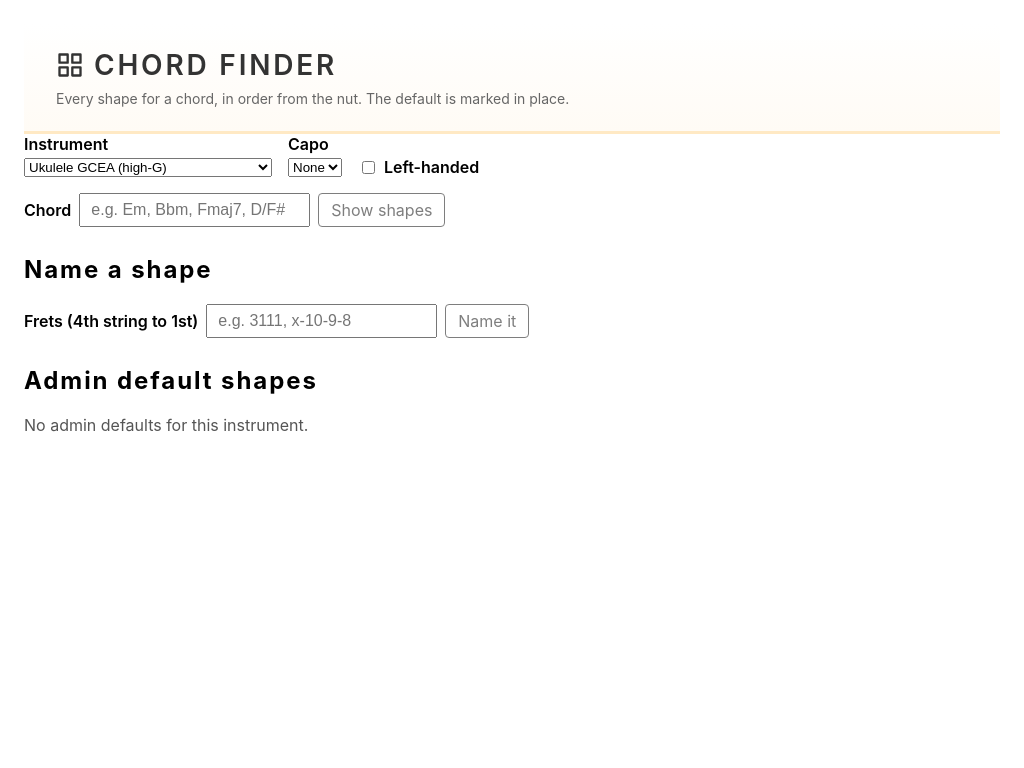
Test: ChordFinder › Clear admin default sends DELETE for that chord
Type "Em" into the field labelled "Chord" at (195, 210), box left=79, top=193, right=310, bottom=227
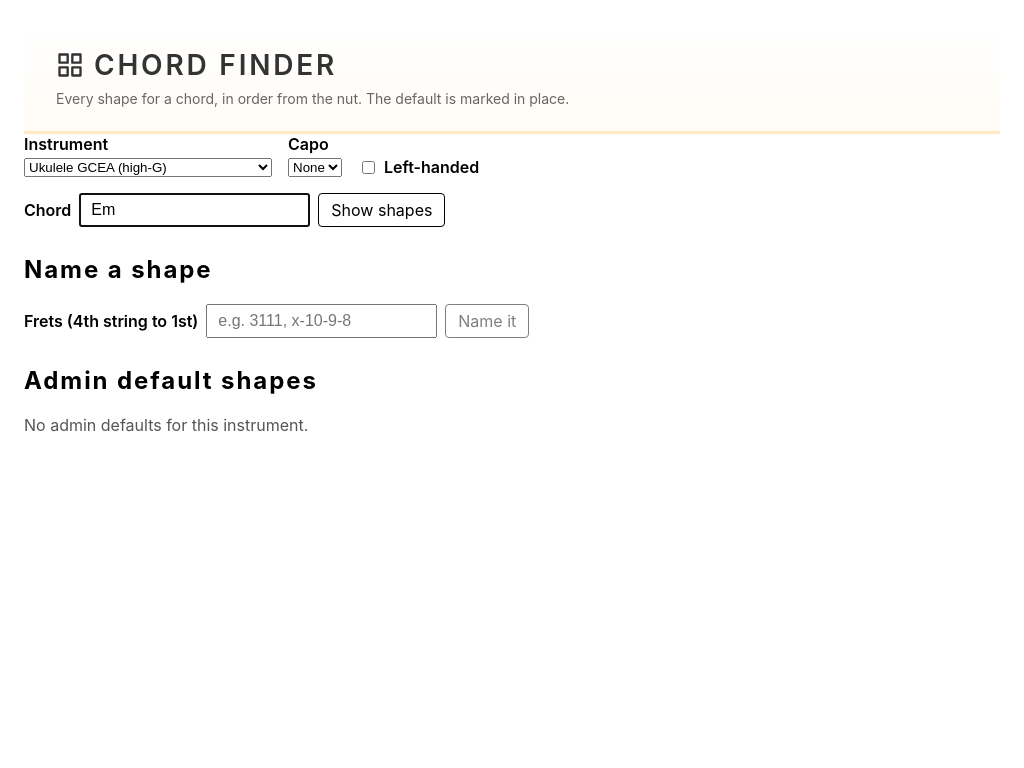
Click the button "Show shapes" at (382, 210), box left=318, top=193, right=445, bottom=227
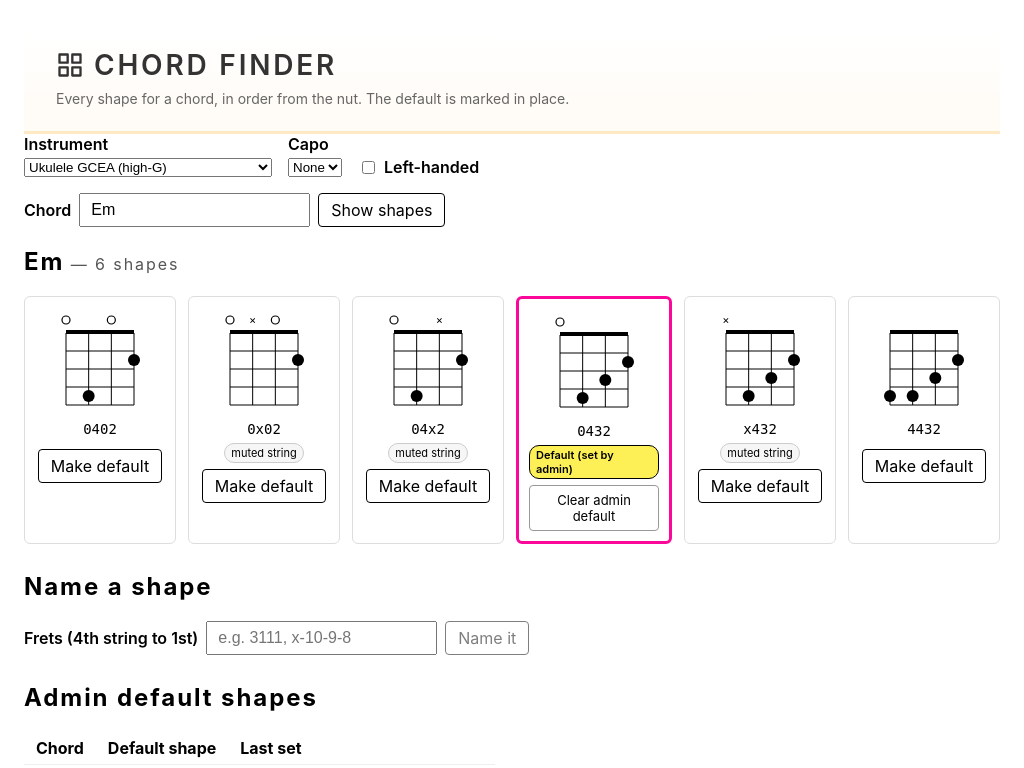
Click the button "Clear admin default" at (594, 508), box left=529, top=485, right=659, bottom=531
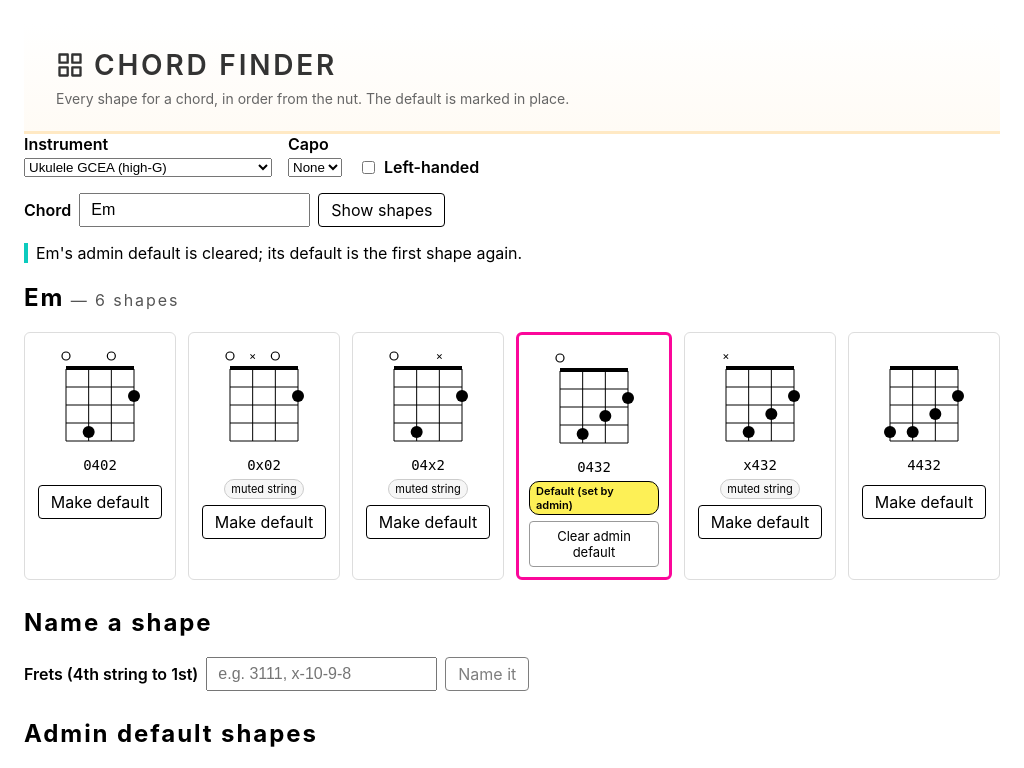
expect the message shows "cleared": met, box left=36, top=243, right=522, bottom=263
